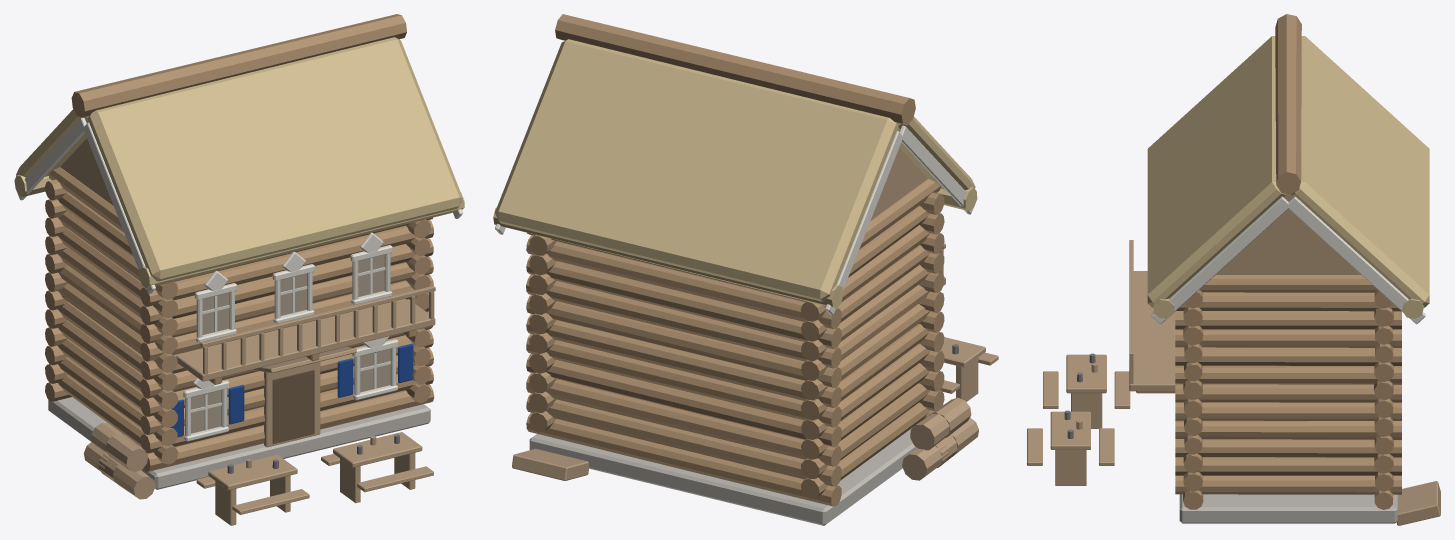
File: bld_traktir.glb
3 views of the same model, side by side, from view 1: azimuth 30°, elevation 25°; view 2: azimuth 150°, elevation 25°; view 3: azimuth 270°, elevation 25° (orthographic). The views are drawn at different scales.
Parts seen in each view (by area): view 1: traktir; view 2: traktir; view 3: traktir.
Boxes of the visible parts, x1,y1,x2,y2 form: traktir: (14, 14, 464, 525); traktir: (493, 14, 998, 525); traktir: (1027, 14, 1440, 525).
Size of the model in its own units: 1.69 by 1.82 by 1.84.
